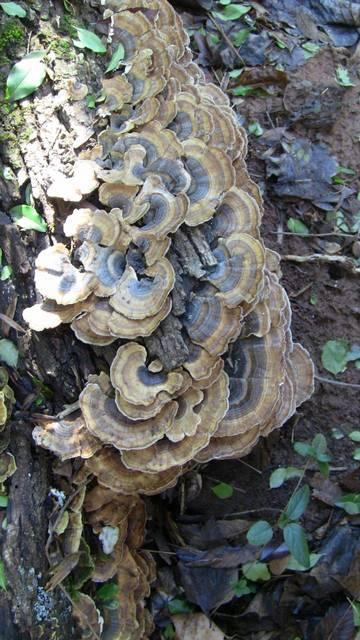Non-edible Mushroom: (21, 0, 315, 498)
